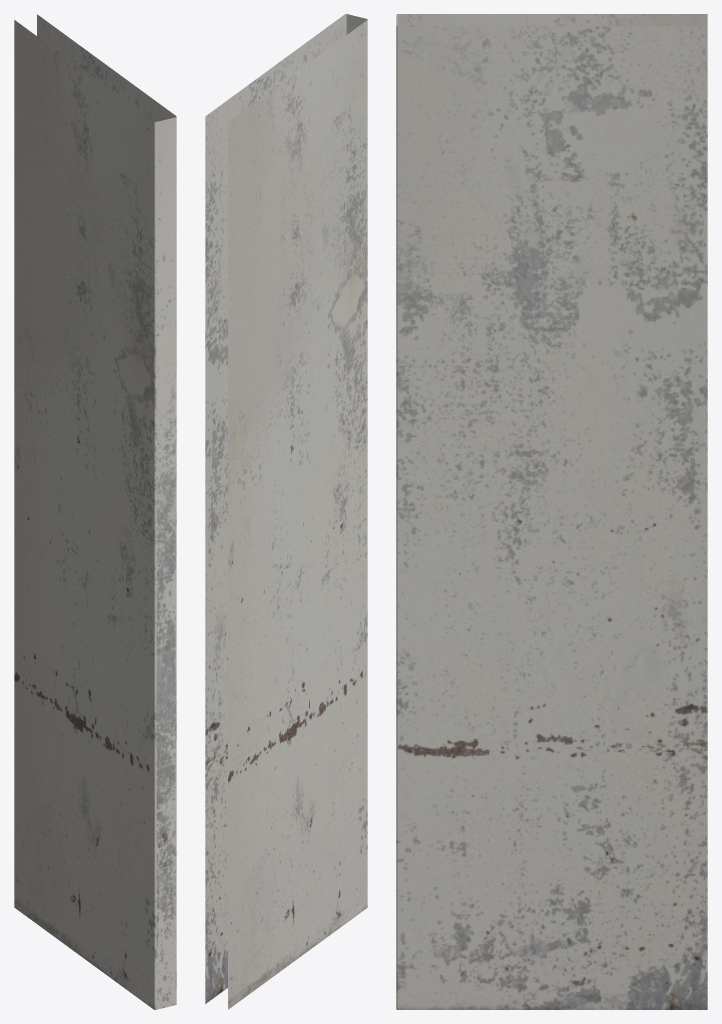
Rendered from Lift_Door_A2.fbx.
The picture shows the model from 3 angles, left to right: view 1: azimuth 30°, elevation 25°; view 2: azimuth 150°, elevation 25°; view 3: azimuth 270°, elevation 25°; orthographic projection. The views are drawn at different scales.
Parts seen in each view (by area): view 1: Lift_Door_A2; view 2: Lift_Door_A2; view 3: Lift_Door_A2.
Part boxes in pixels (x1=…): Lift_Door_A2: x1=14, y1=14, x2=176, y2=1009; Lift_Door_A2: x1=205, y1=14, x2=367, y2=1009; Lift_Door_A2: x1=396, y1=14, x2=707, y2=1009.
Bounding box in the file's own units: 0.0746 × 2.79 × 0.7996.
